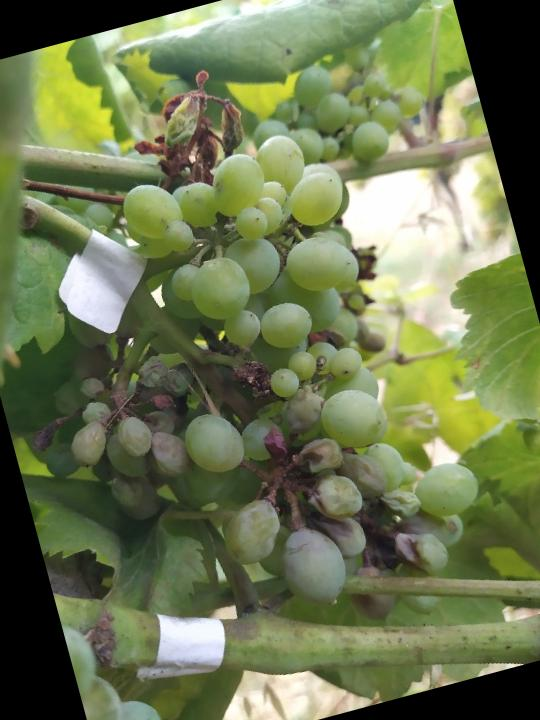grape: (2, 101, 504, 664)
